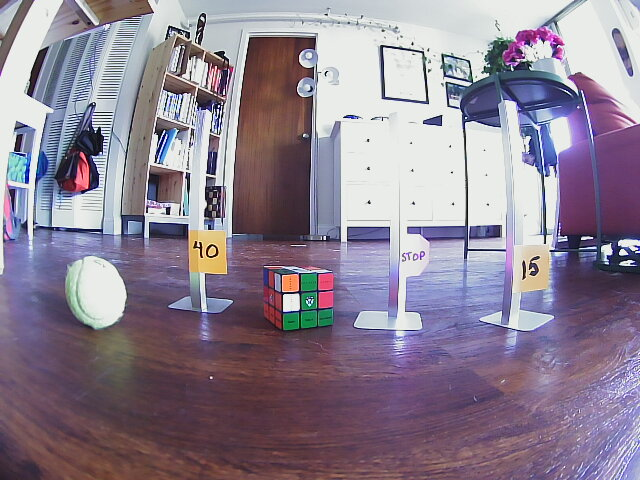15: (509, 238, 556, 296)
40: (184, 226, 230, 278)
ball: (62, 255, 130, 333)
cube: (256, 262, 338, 335)
stop: (396, 230, 430, 282)
